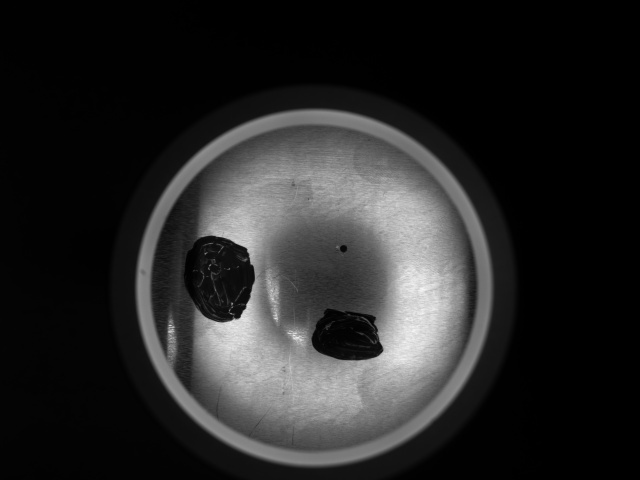zang_wu: (308, 305, 385, 362)
zhen_kong: (183, 235, 259, 324), (335, 241, 354, 256)
